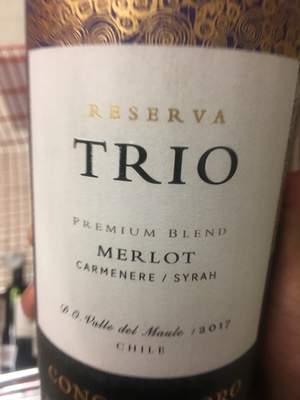trio merlot: (22, 5, 295, 400)
